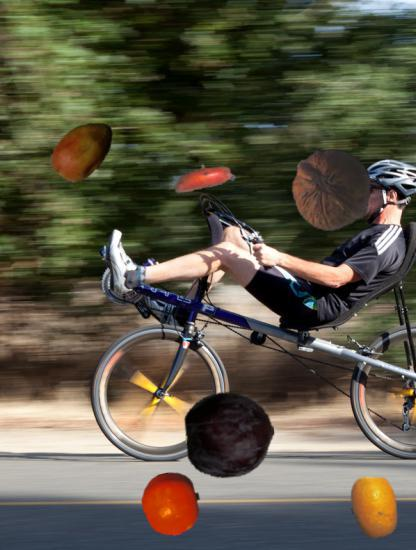Banana: (173, 146, 236, 209)
Clementine: (140, 472, 204, 536)
Kumquats: (342, 474, 408, 540)
Papaya: (47, 114, 121, 188)
Plum: (185, 390, 275, 480)
Walnut: (290, 148, 374, 232)
